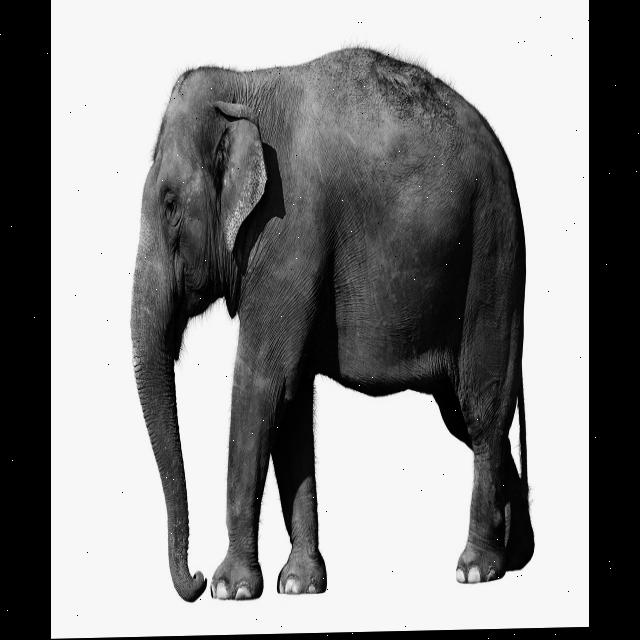Elephant: (129, 40, 535, 604)
